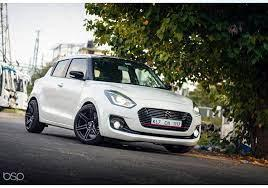Hatchback: (23, 54, 202, 152)
